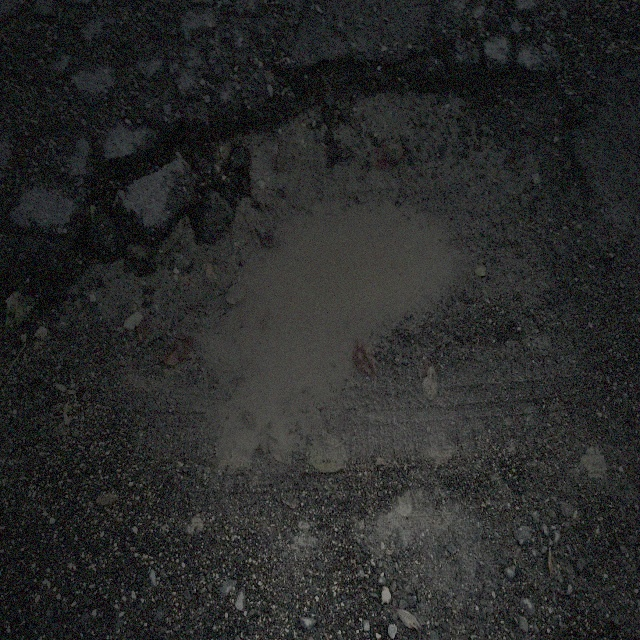pothole: (86, 38, 583, 426)
